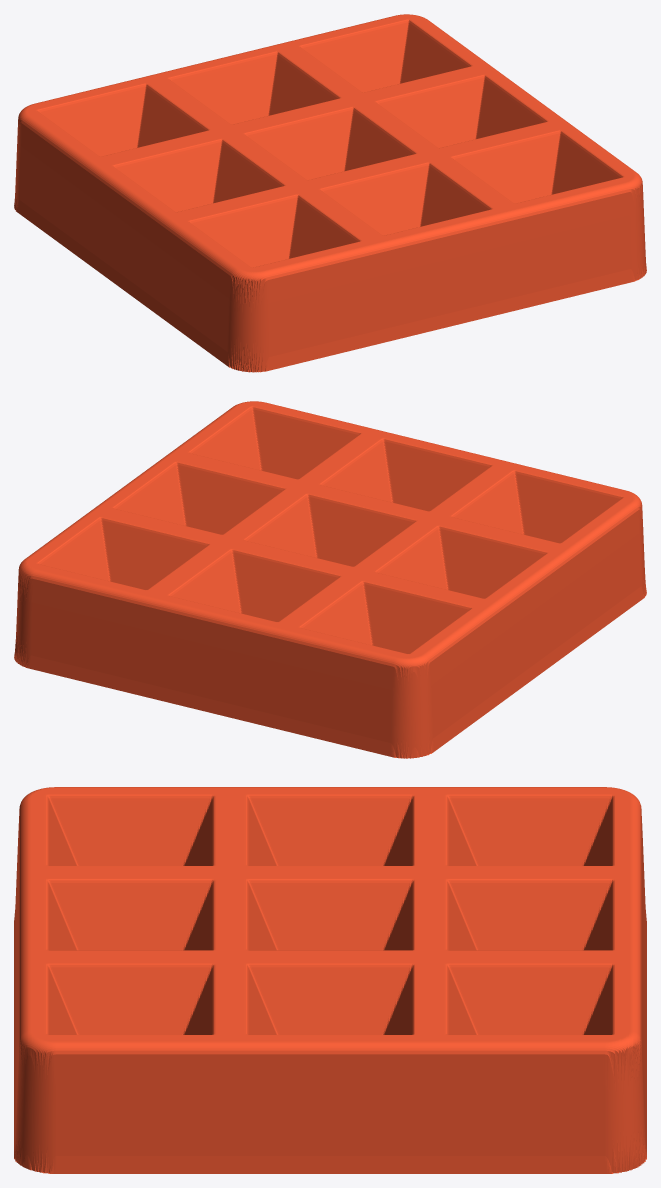
File: mold.glb
3 renders of one model, top to bottom at view 1: azimuth 30°, elevation 25°; view 2: azimuth 150°, elevation 25°; view 3: azimuth 270°, elevation 25°, orthographic. The views are drawn at different scales.
Visible parts, largest first — view 1: geometry_0; view 2: geometry_0; view 3: geometry_0.
Part boxes in pixels (left/top/right/bottom): geometry_0: left=14, top=14, right=646, bottom=372; geometry_0: left=14, top=401, right=646, bottom=758; geometry_0: left=14, top=787, right=646, bottom=1173.
Size of the model in its own units: 0.1369 by 0.0299 by 0.1369.
